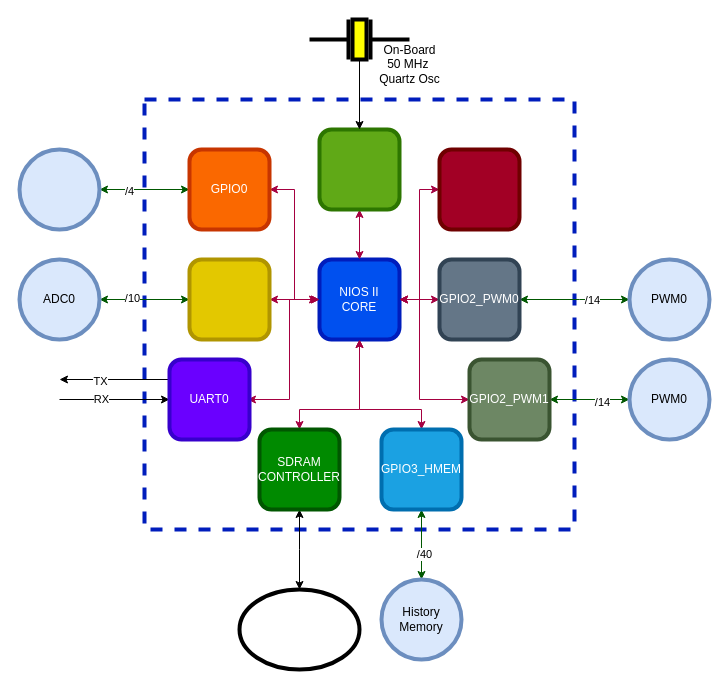
Image size: 728x688. Some labels were removed from this diagram. Here are the shapes that lost their labels. From the top down, the centre of each, then its label:
[59,189]: On-Board Status LEDs
[359,169]: PLL0
[479,189]: TIMER0
[229,299]: GPIO1_ADC
[299,629]: Off-Chip SDRAM
